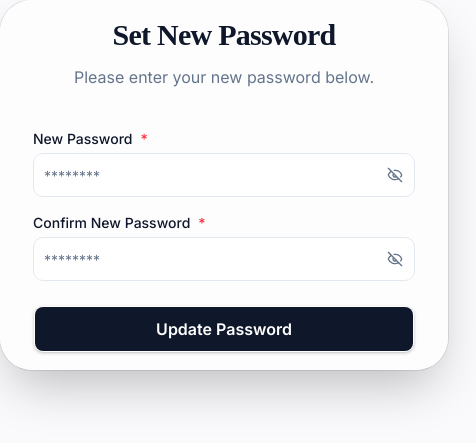
Test case: UpdatePasswordForm › shows validation error if passwords do not match
Type "password123" into the 1st password field with placeholder "********" at (224, 175), box 33,153 -> 415,197
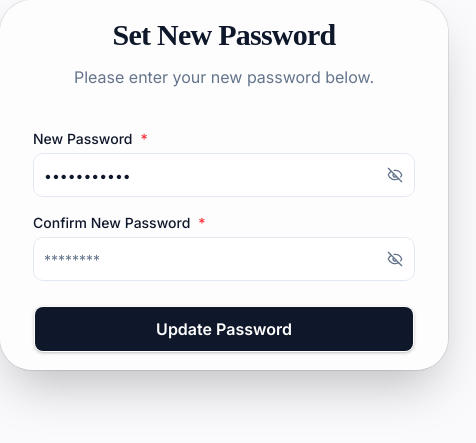
Type "password456" into the password field with placeholder "********" at (224, 259), box 33,237 -> 415,281
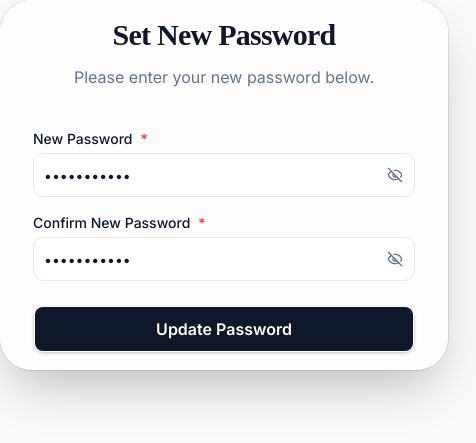
Click the button "Update Password" at (224, 329), box 33,305 -> 415,353
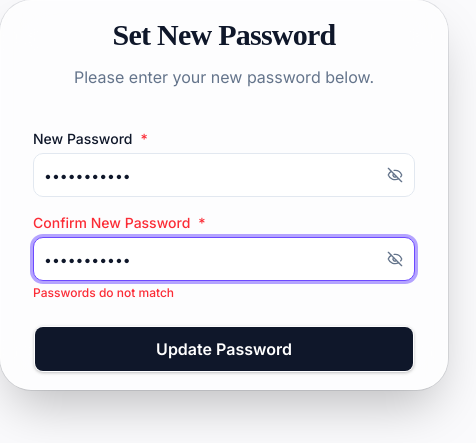
Check: the text "Passwords do not match" is shown, box 33,285 -> 174,300
